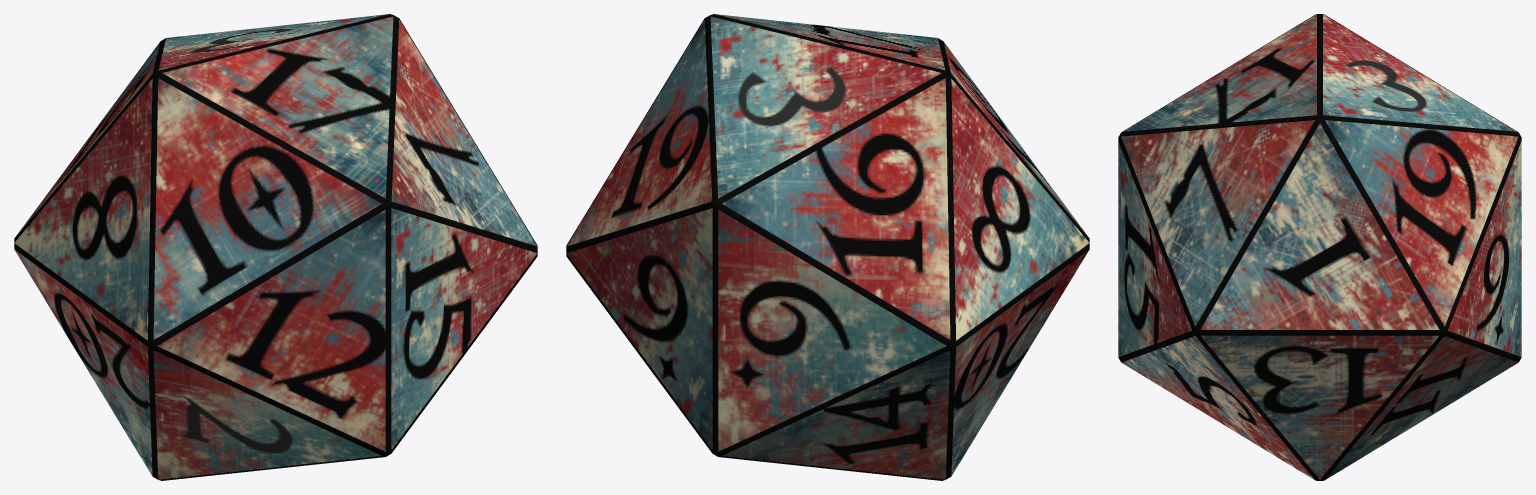
Rendered from chanced20.glb.
3 renders of one model, left to right at view 1: azimuth 30°, elevation 25°; view 2: azimuth 150°, elevation 25°; view 3: azimuth 270°, elevation 25°, orthographic. The views are drawn at different scales.
Parts seen in each view (by area): view 1: Mesh_0; view 2: Mesh_0; view 3: Mesh_0.
Part boxes in pixels (<box>): Mesh_0: <box>14,14,537,480</box>; Mesh_0: <box>566,14,1089,480</box>; Mesh_0: <box>1118,14,1521,480</box>.
Size of the model in its own units: 169 by 169 by 169.
1 material, 1 textured.
